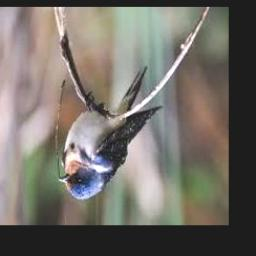Swallow: (58, 67, 163, 199)
